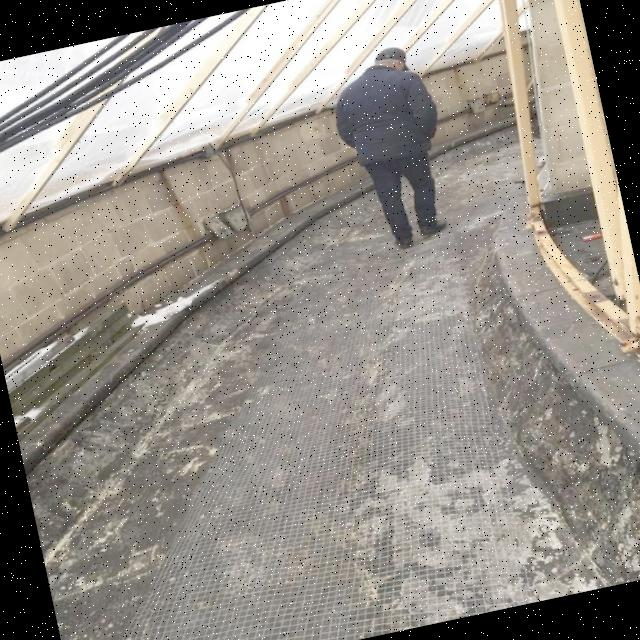NoHelmet: (369, 45, 414, 80)
